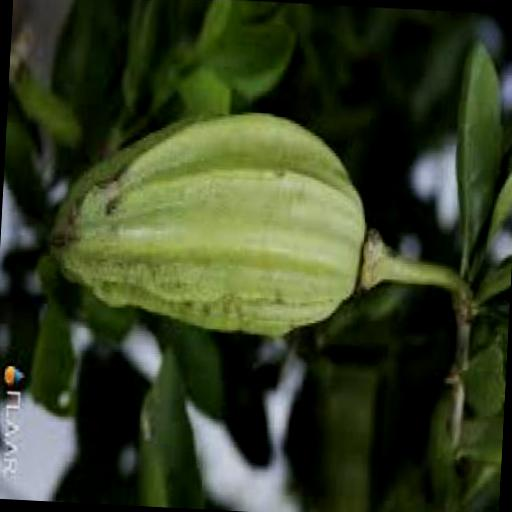biodegradable: (44, 96, 410, 346), (55, 0, 305, 131), (458, 36, 512, 276), (130, 372, 212, 507)
